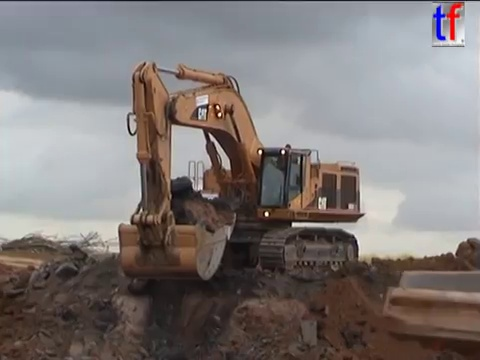excavator: (115, 56, 366, 286)
truck: (378, 266, 480, 360)
